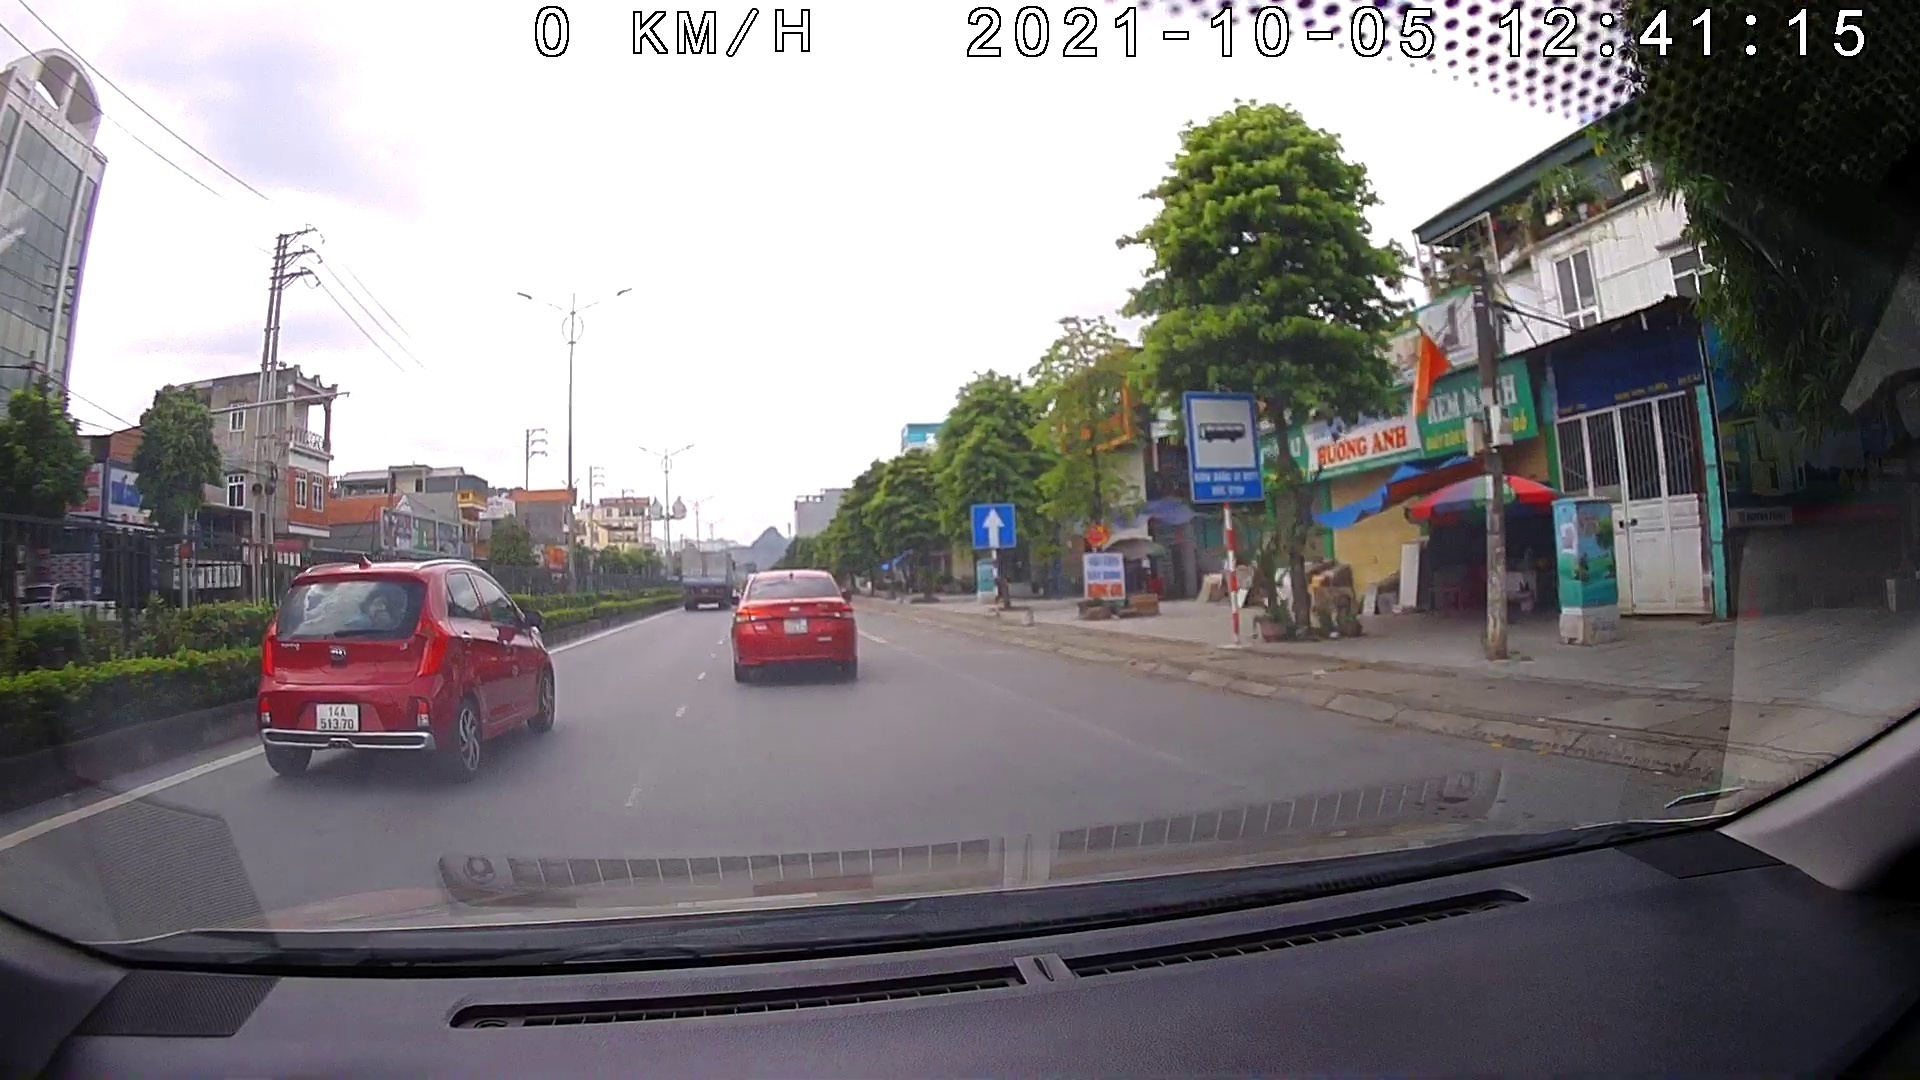Bien khac: (1178, 392, 1263, 505), (964, 502, 1017, 553)
